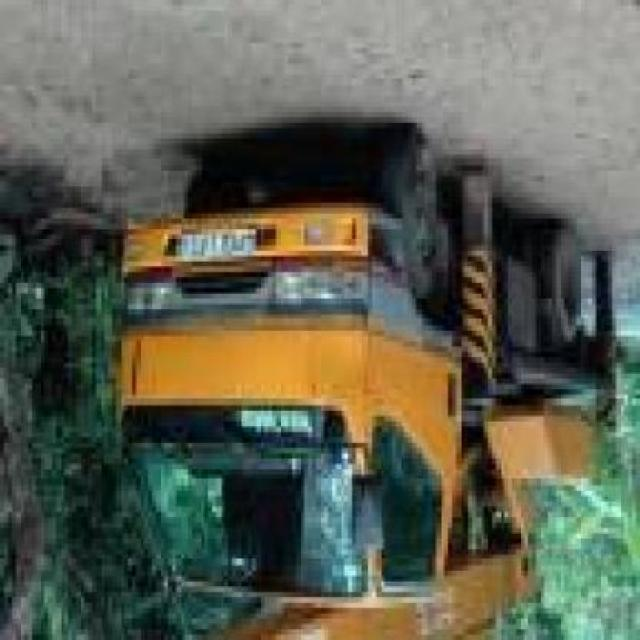truck: (101, 129, 601, 640)
